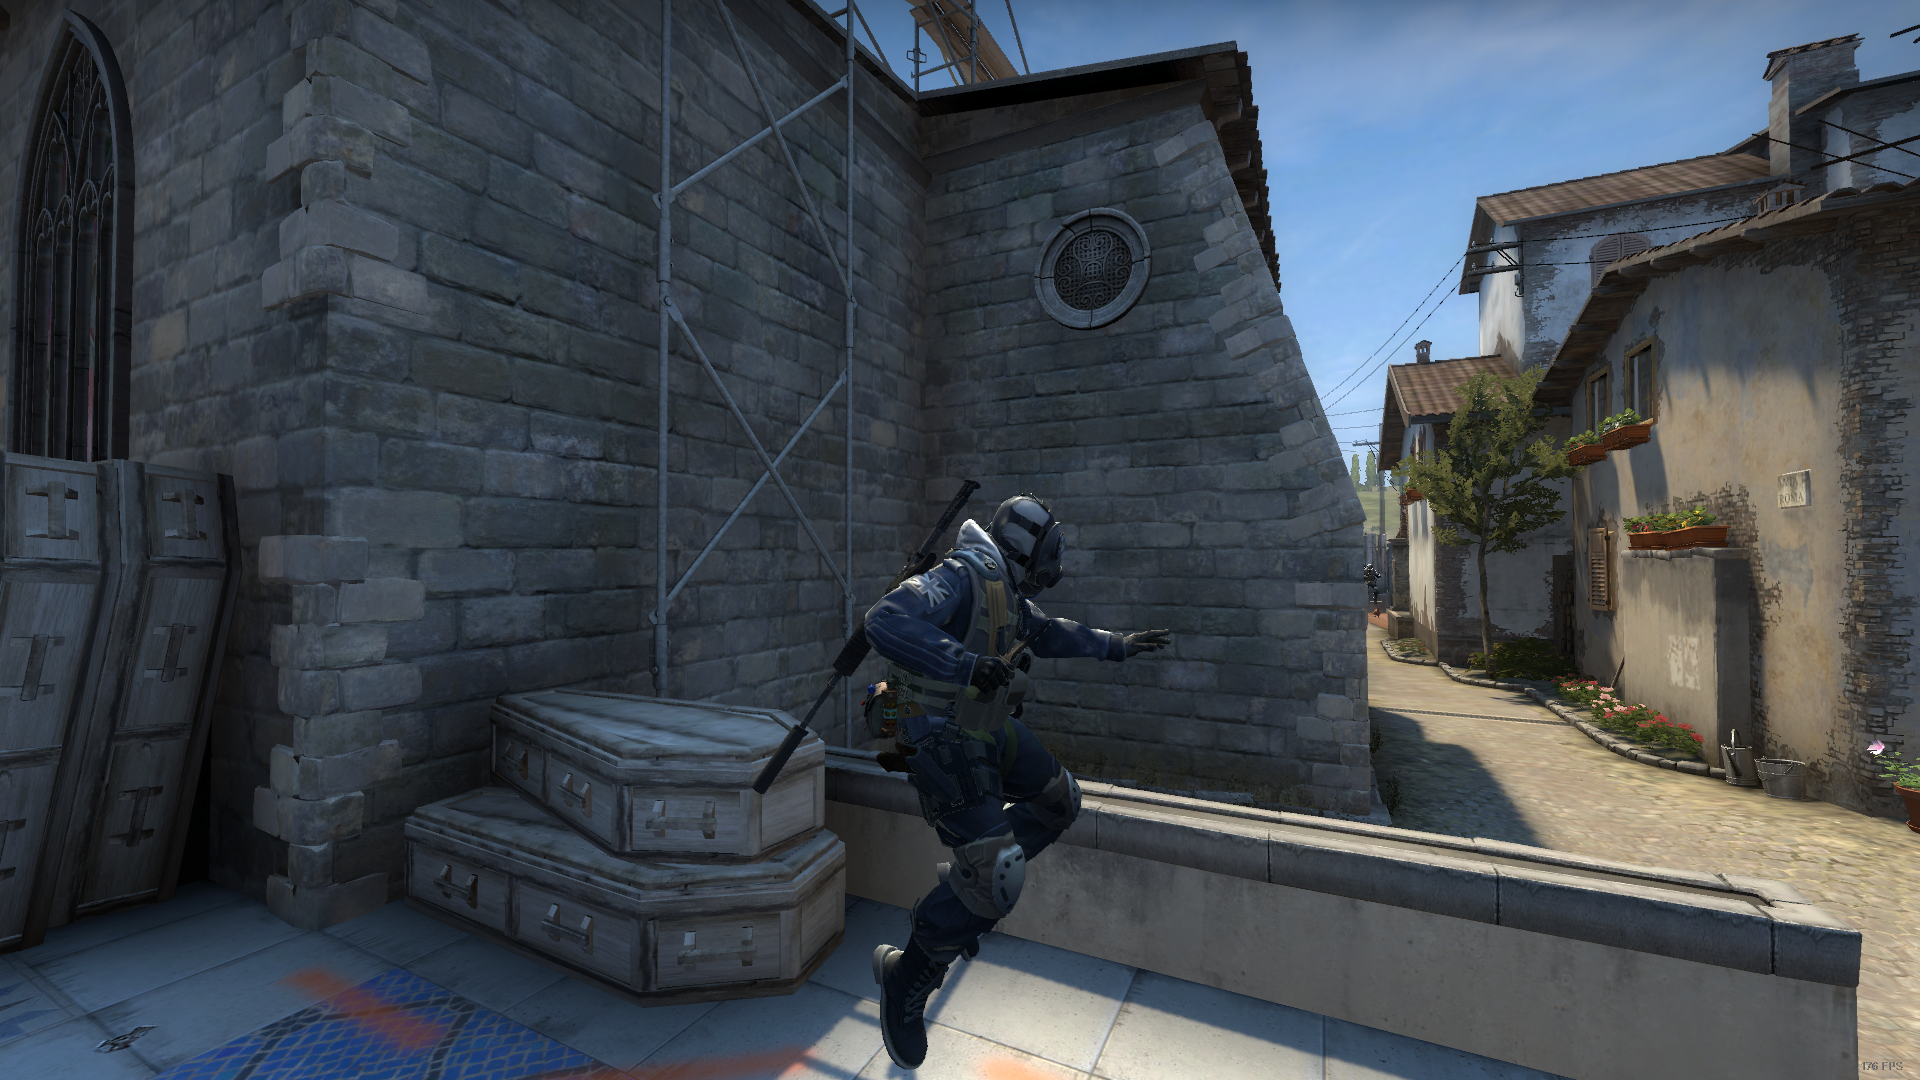ct: (851, 489, 1175, 1080)
